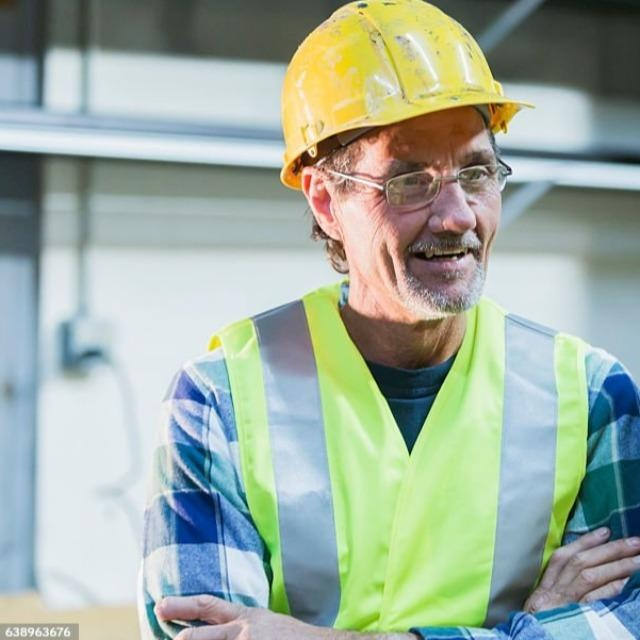Con_Casco: (275, 0, 535, 319)
Con_Chaleco: (221, 296, 595, 640)
